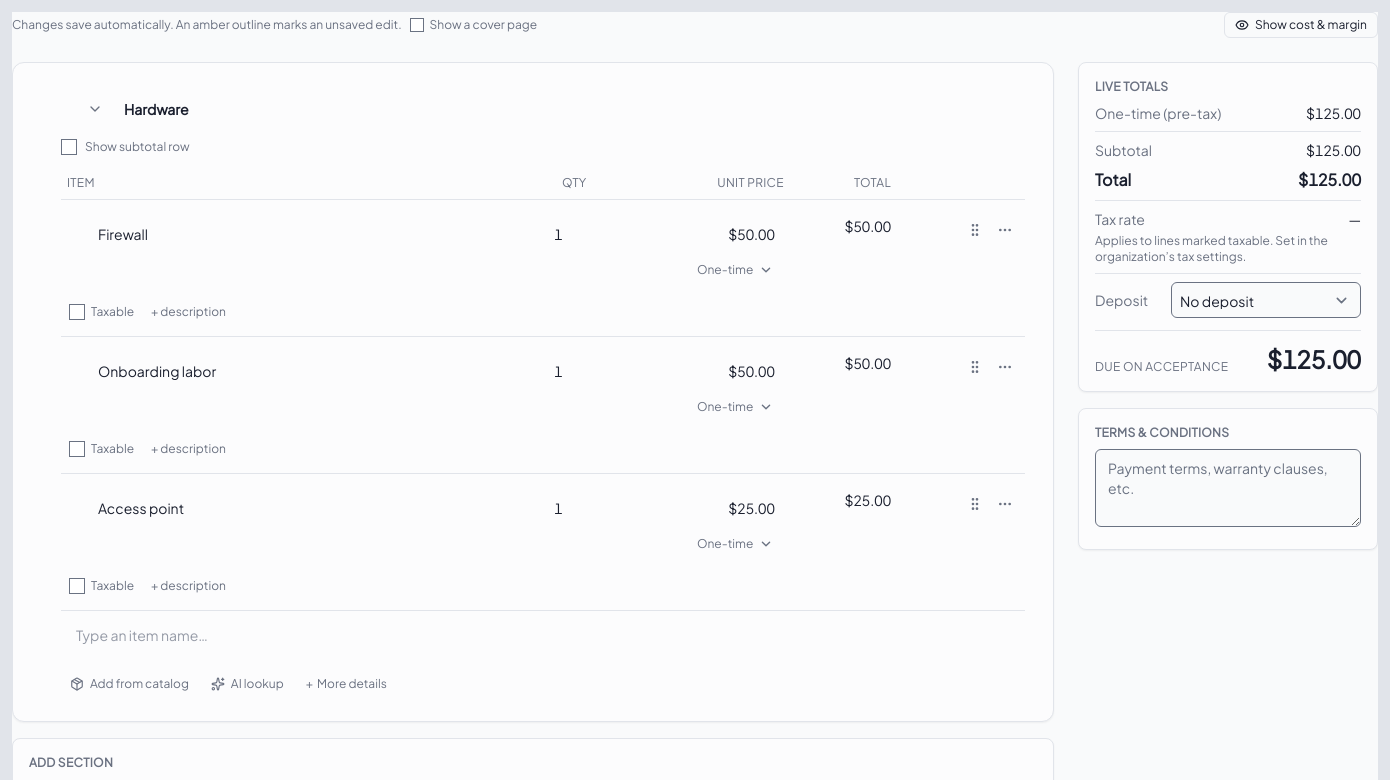
Test: QuoteEditor — bulk edit (Task D) › the block header select-all selects/deselects every line and goes indeterminate on a subset
# Subset → indeterminate, not checked.
What coordinates should you click on to do the following:
click the checkbox with test id "quote-line-select-line-1"
I would click on:
 (265, 234)
Its box is [67,216,462,252].
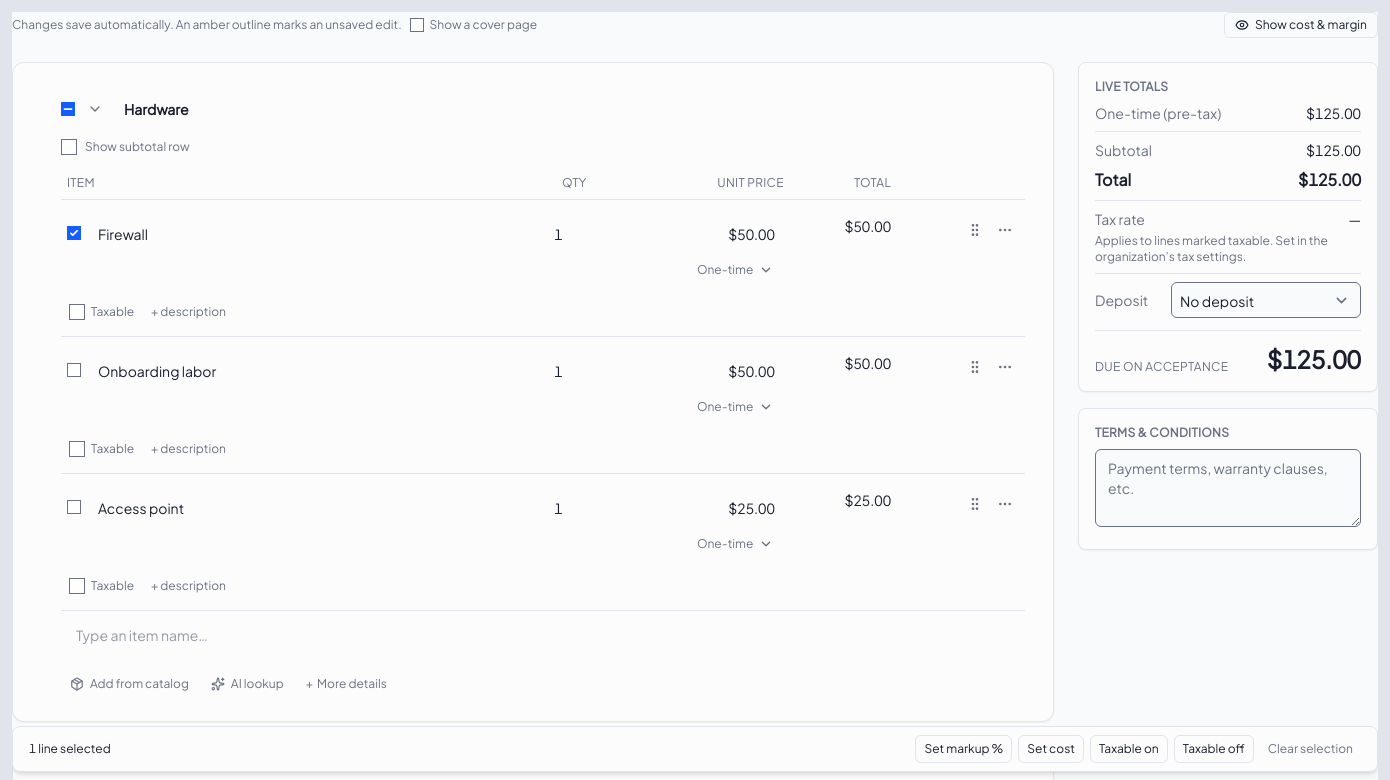
# Select-all → every row checked, indeterminate cleared.
What coordinates should you click on to do the following:
click the checkbox with test id "quote-block-select-all-blk-1"
I would click on:
 (68, 109)
Its box is [61,102,75,116].
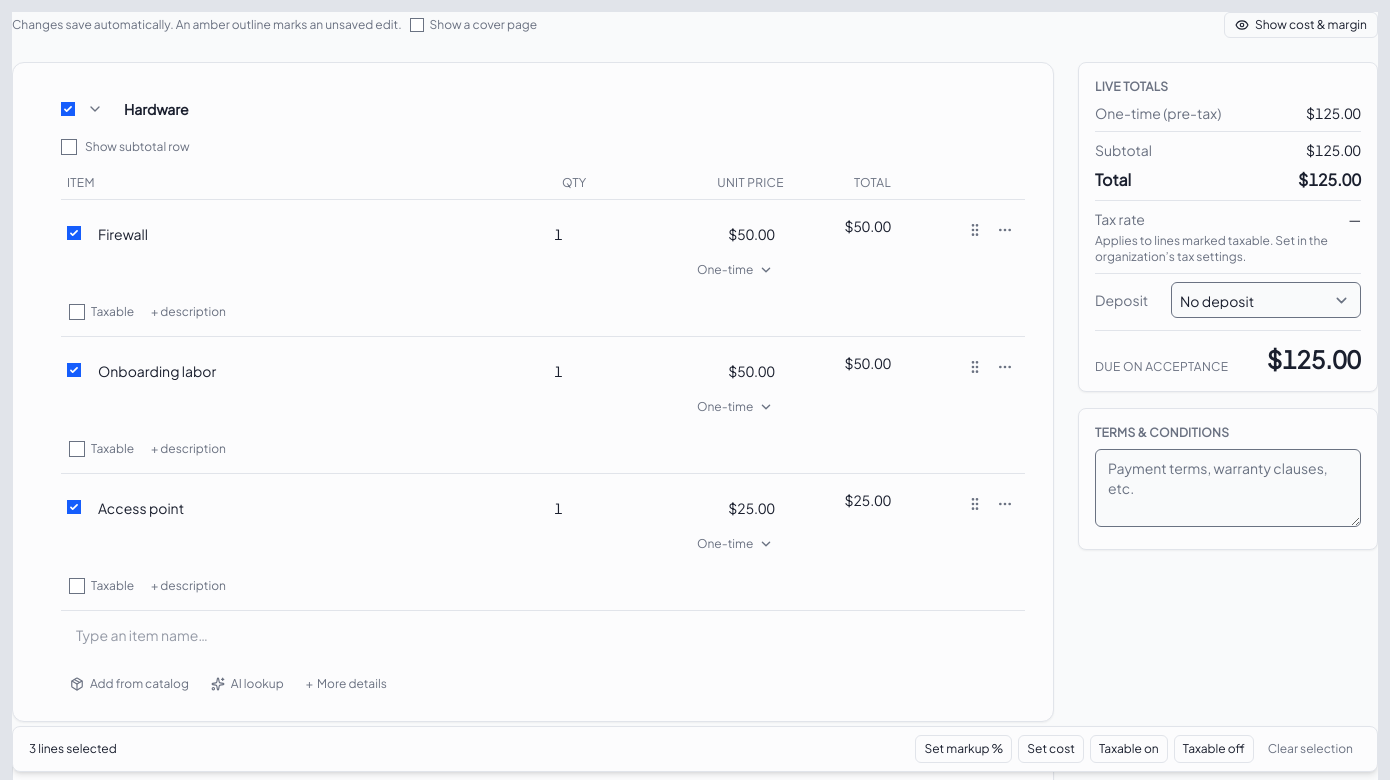
Now the checkbox with test id "quote-line-select-line-1" is checked, box [67,226,81,240]
Now the message with test id "quote-bulk-count" reads "3 lines selected", box [29,741,117,756]
Now the checkbox with test id "quote-line-select-line-2" is checked, box [67,363,81,377]
# Unchecking select-all empties the selection and dismisses the bar.
What coordinates should you click on to do the following:
click the checkbox with test id "quote-block-select-all-blk-1"
I would click on:
 (68, 109)
Its box is [61,102,75,116].
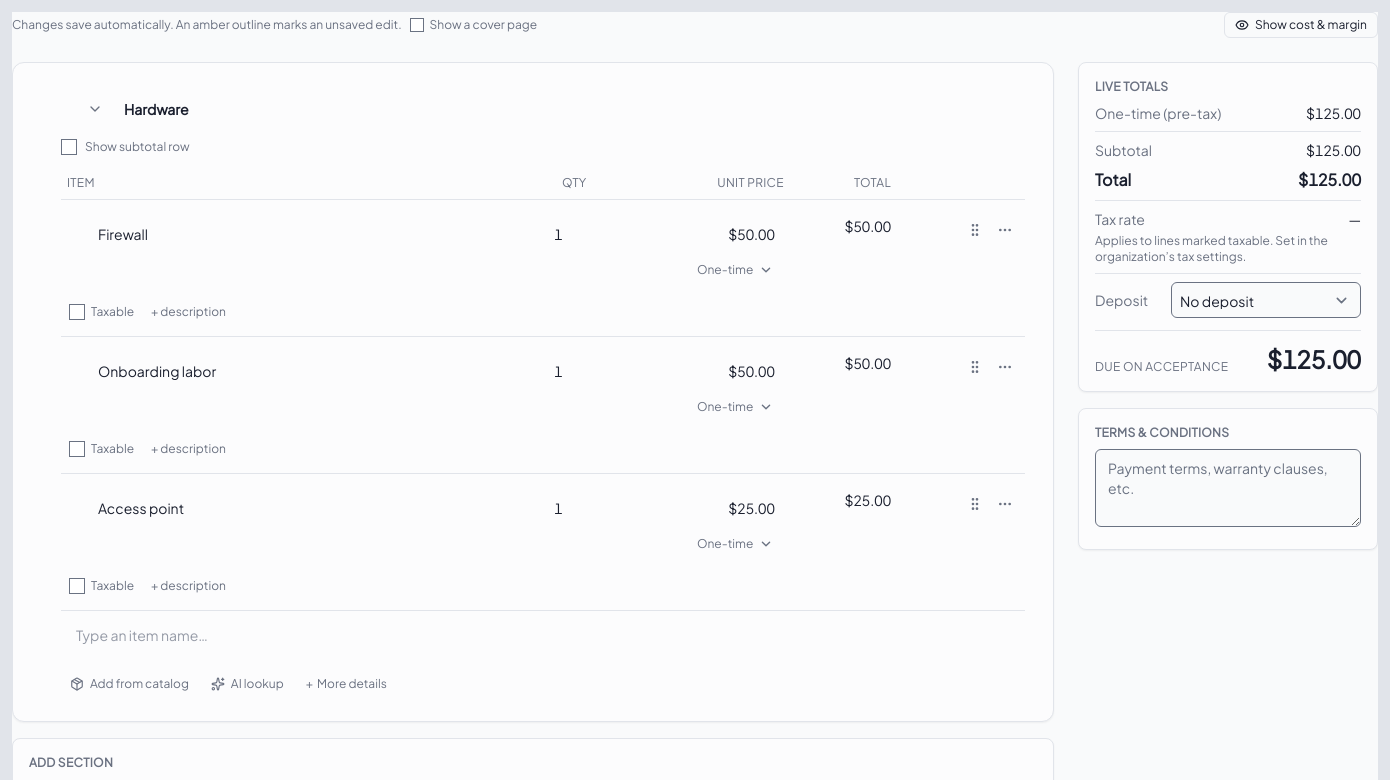
Now the element with test id "quote-bulk-bar" is gone
